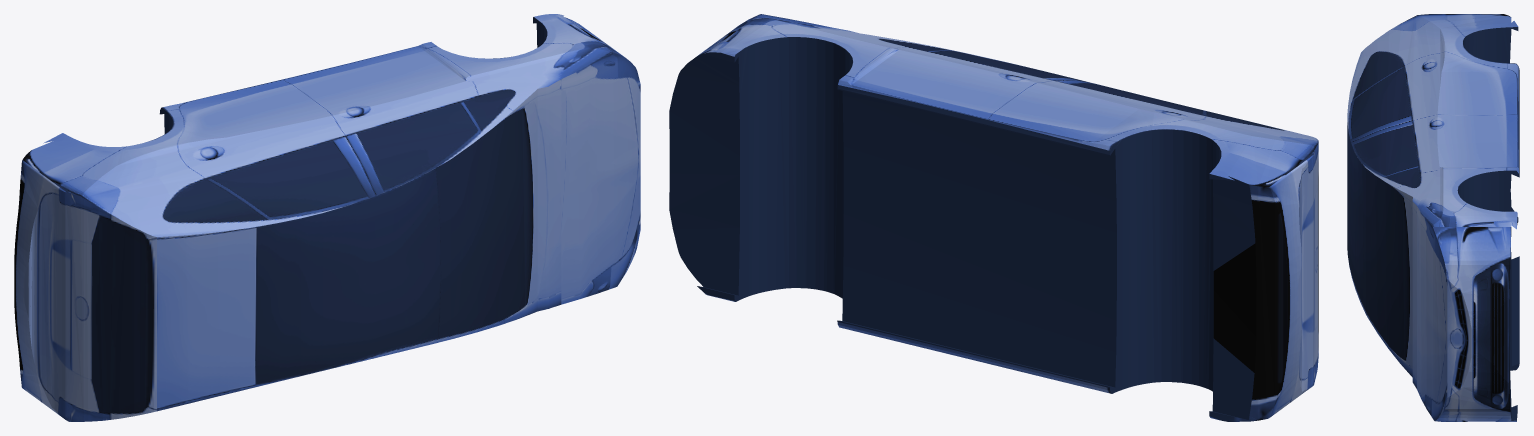
File: blue_prius.dae
The picture shows the model from 3 angles, left to right: view 1: azimuth 30°, elevation 25°; view 2: azimuth 150°, elevation 25°; view 3: azimuth 270°, elevation 25°; orthographic projection. The views are drawn at different scales.
Visible parts, largest first — view 1: node; view 2: node; view 3: node.
Part boxes in pixels (left/top/right/bottom): node: left=14, top=14, right=640, bottom=421; node: left=669, top=14, right=1318, bottom=421; node: left=1347, top=14, right=1519, bottom=421.
Size of the model in its own units: 4.63 by 1.82 by 1.4.
1 material, 1 textured.
